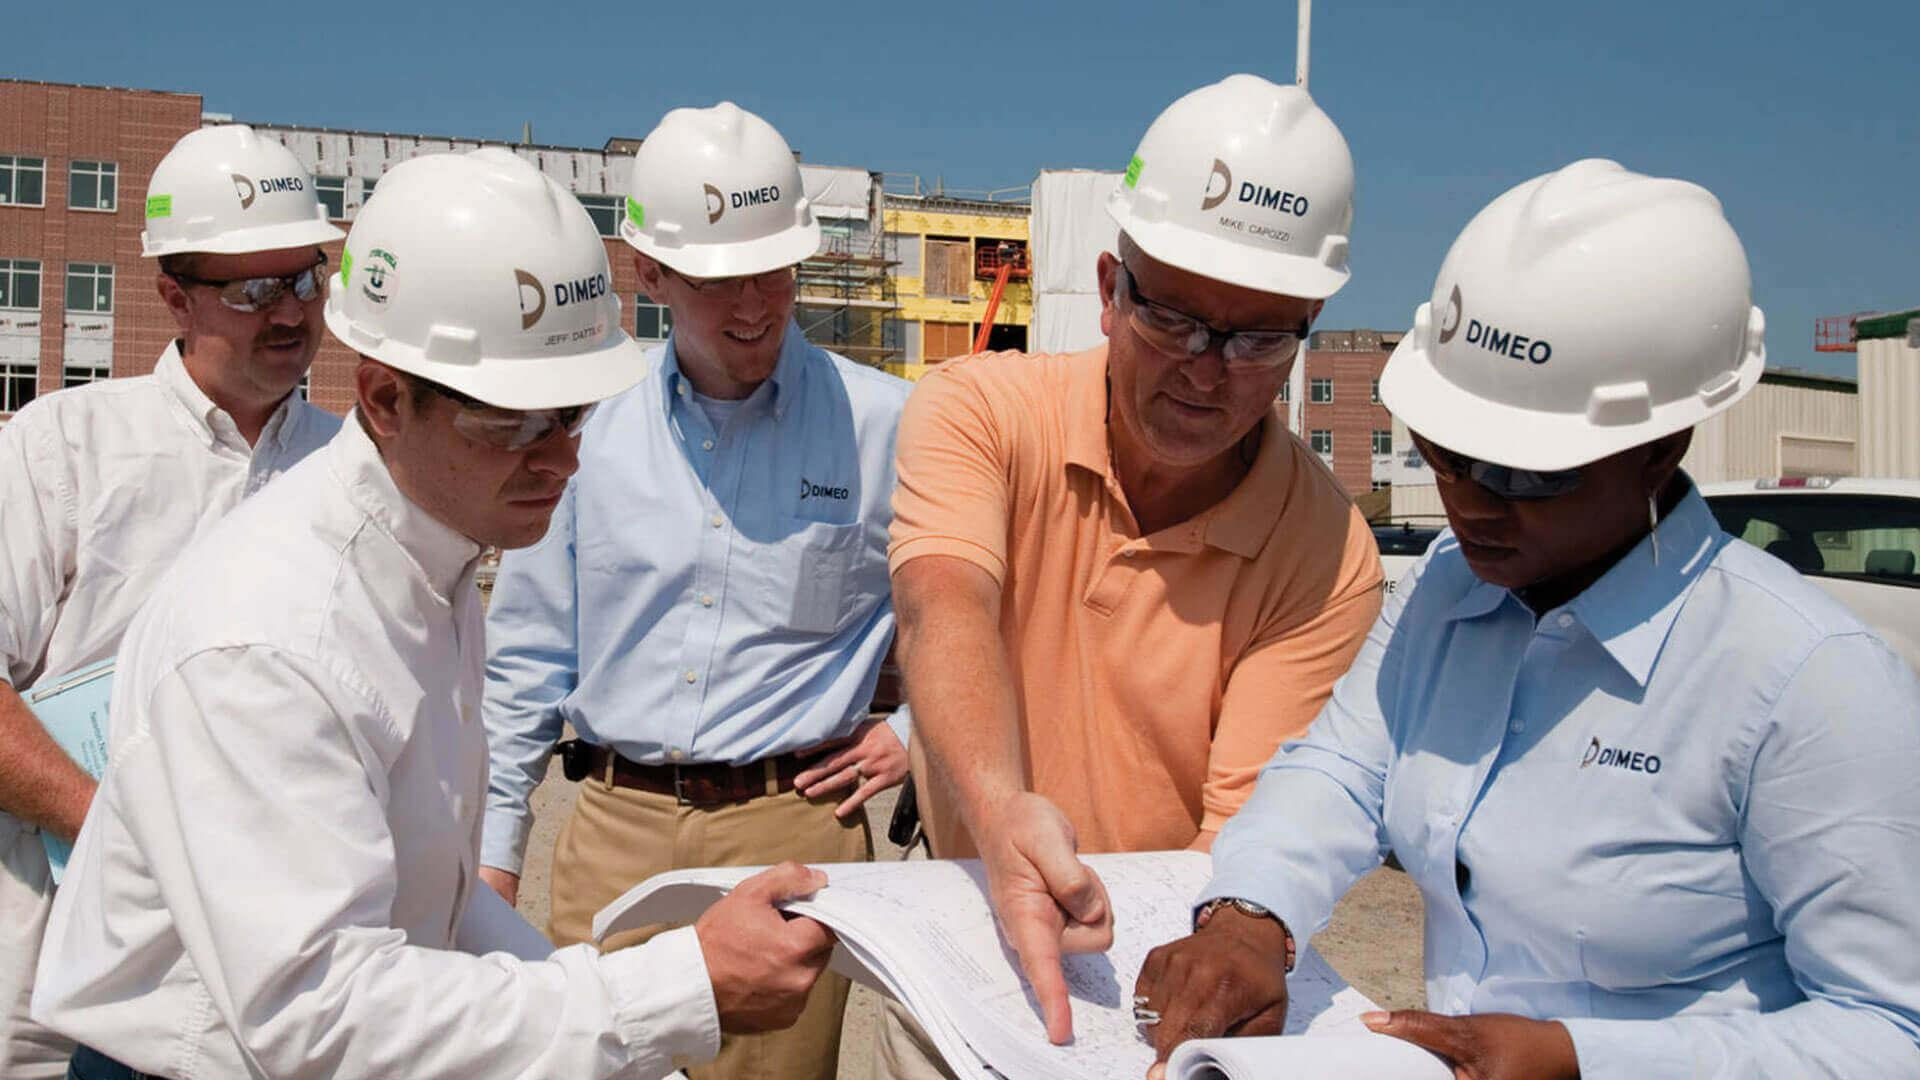helmet: (1375, 158, 1763, 464), (313, 152, 655, 409), (1112, 74, 1367, 294), (624, 105, 828, 280), (141, 123, 342, 258)
